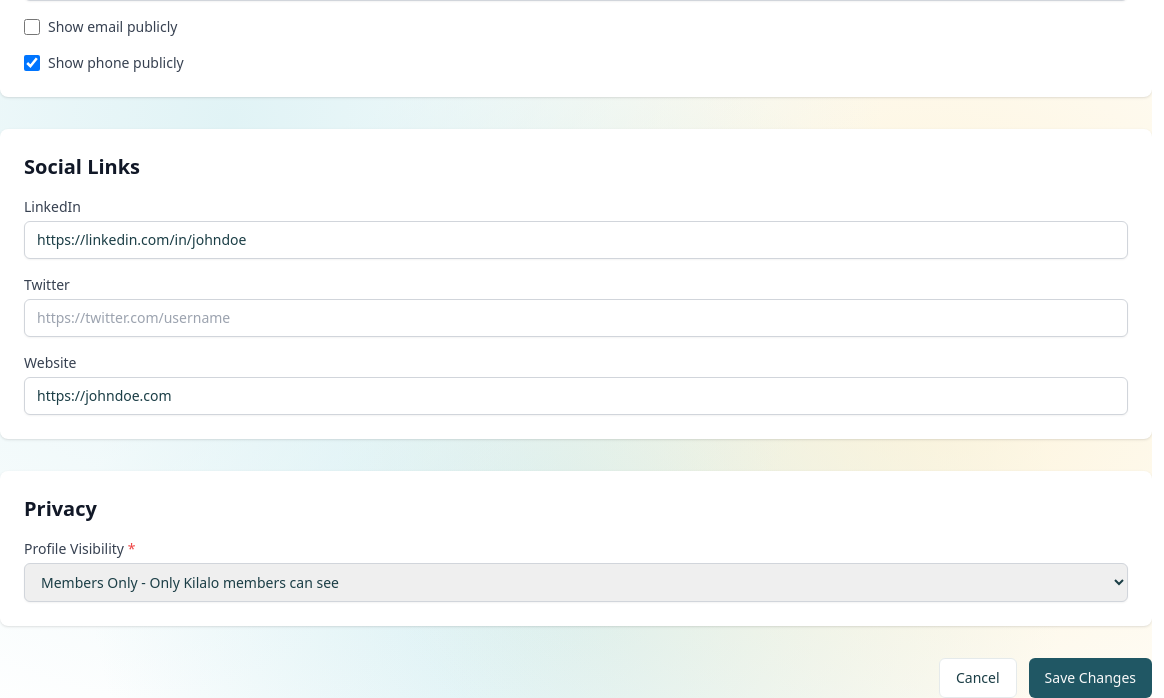
ProfileForm › Form Submission › shows success message on successful save
(page scrolled)
Click the button "Save Changes".
click(1090, 678)  # box [1029,658,1152,697]
(page scrolled)
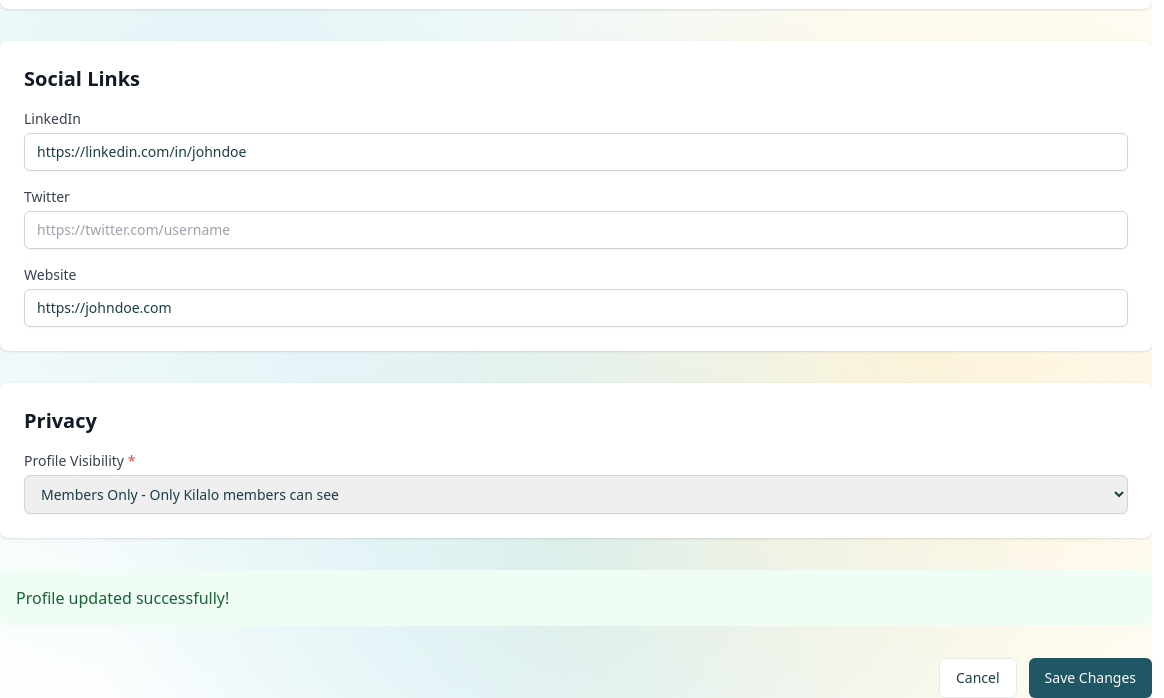
Result: the text "Profile updated successfully!" is shown at [0,570,1152,626]
